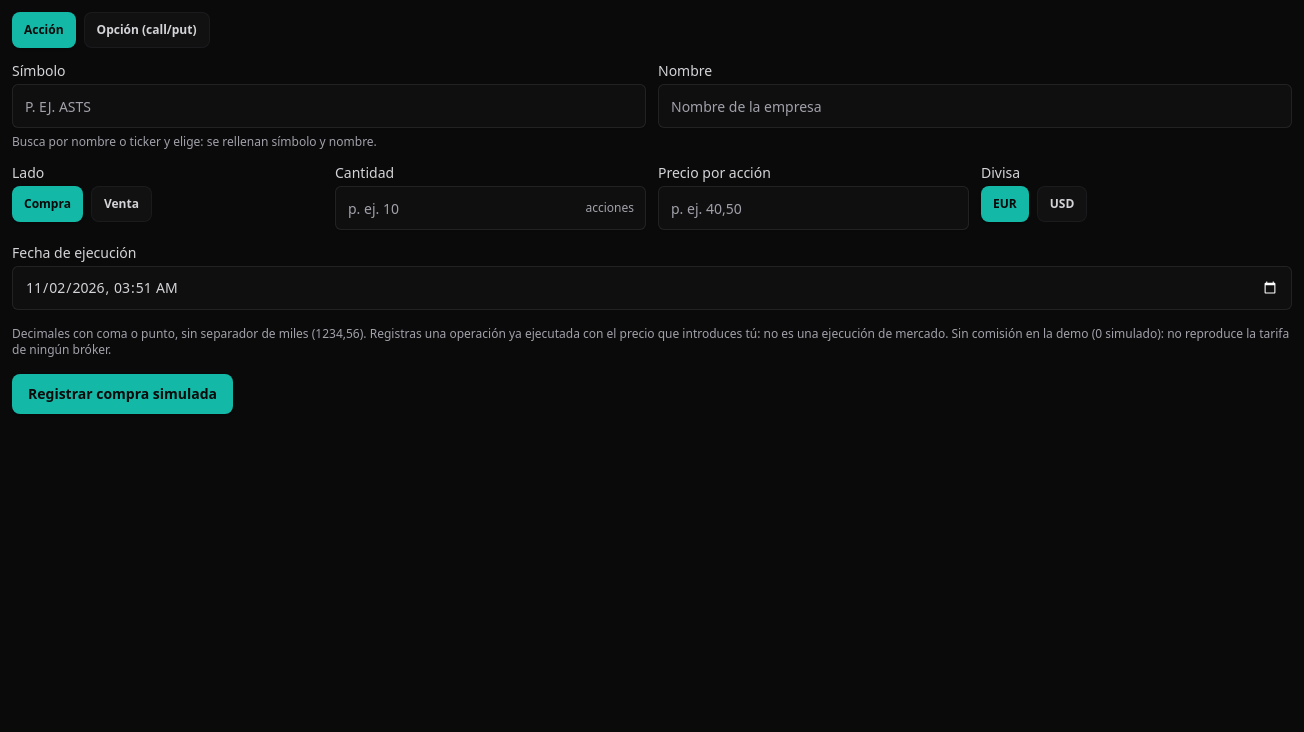
it: OrderTicket (ticket manual de la cuenta demo) › valida opciones en local: ejecución posterior al vencimiento
Click the button "Opción (call/put)" at [147, 30], box [84,12,210,48]
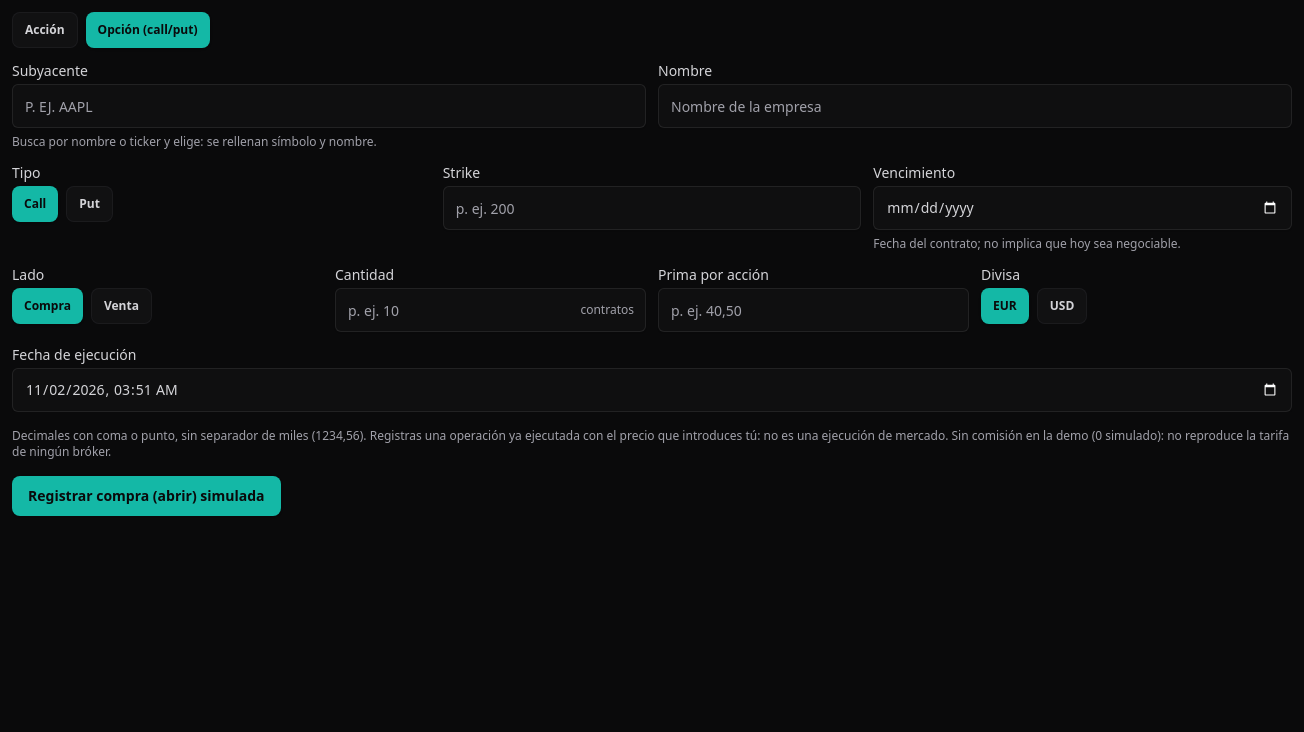
Type "AAPL" into the dropdown labelled "Subyacente" at [329, 106], box [12,84,646,128]
Type "Apple Inc" into the field labelled "Nombre" at [975, 106], box [658,84,1292,128]
Type "2" into the field labelled "Cantidad" at [490, 310], box [335,288,646,332]
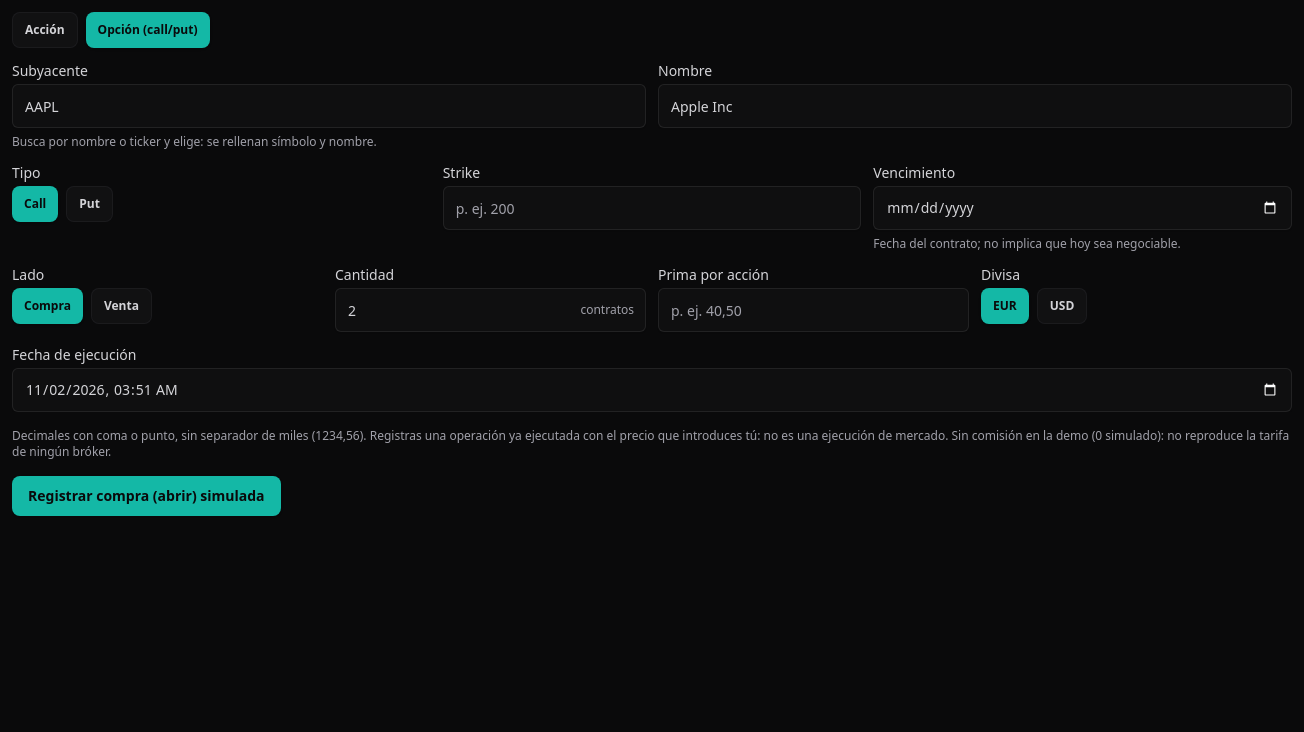
Type "1,5" into the field labelled "Prima por acción" at [814, 310], box [658,288,969,332]
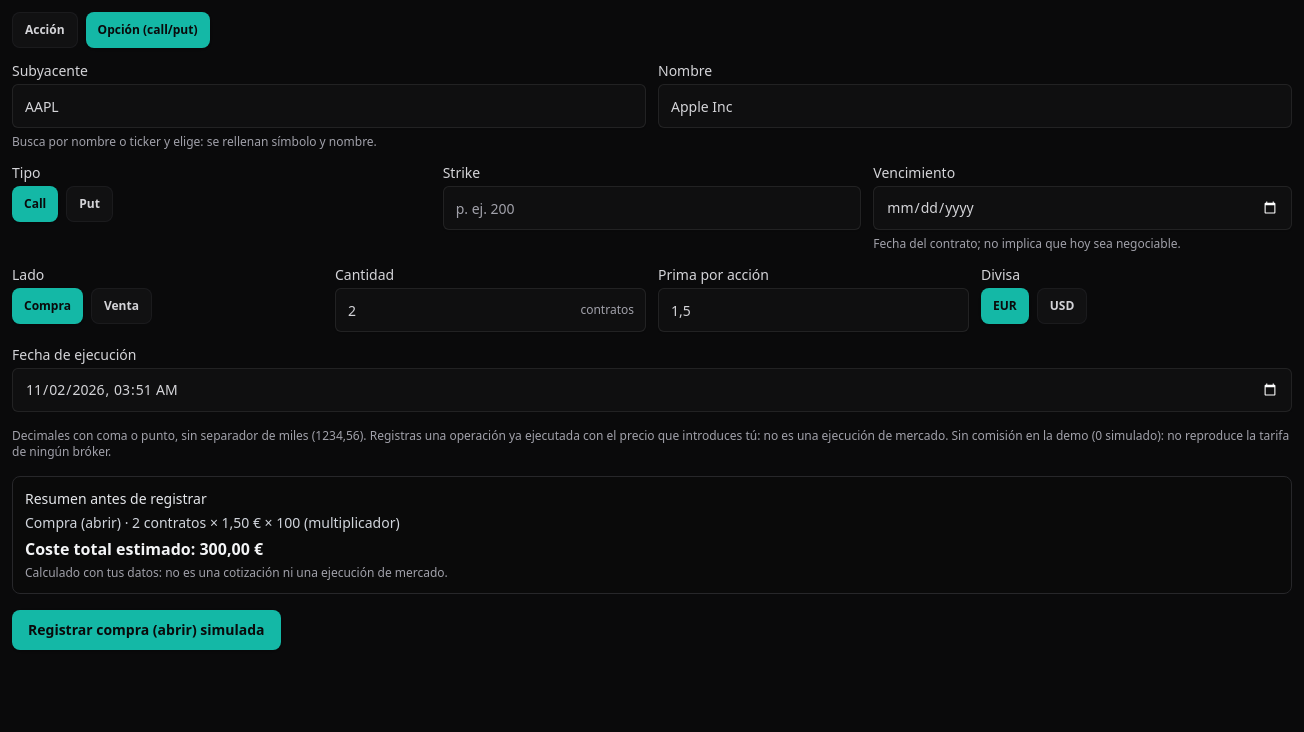
Type "200" into the field labelled "Strike" at [652, 208], box [443,186,861,230]
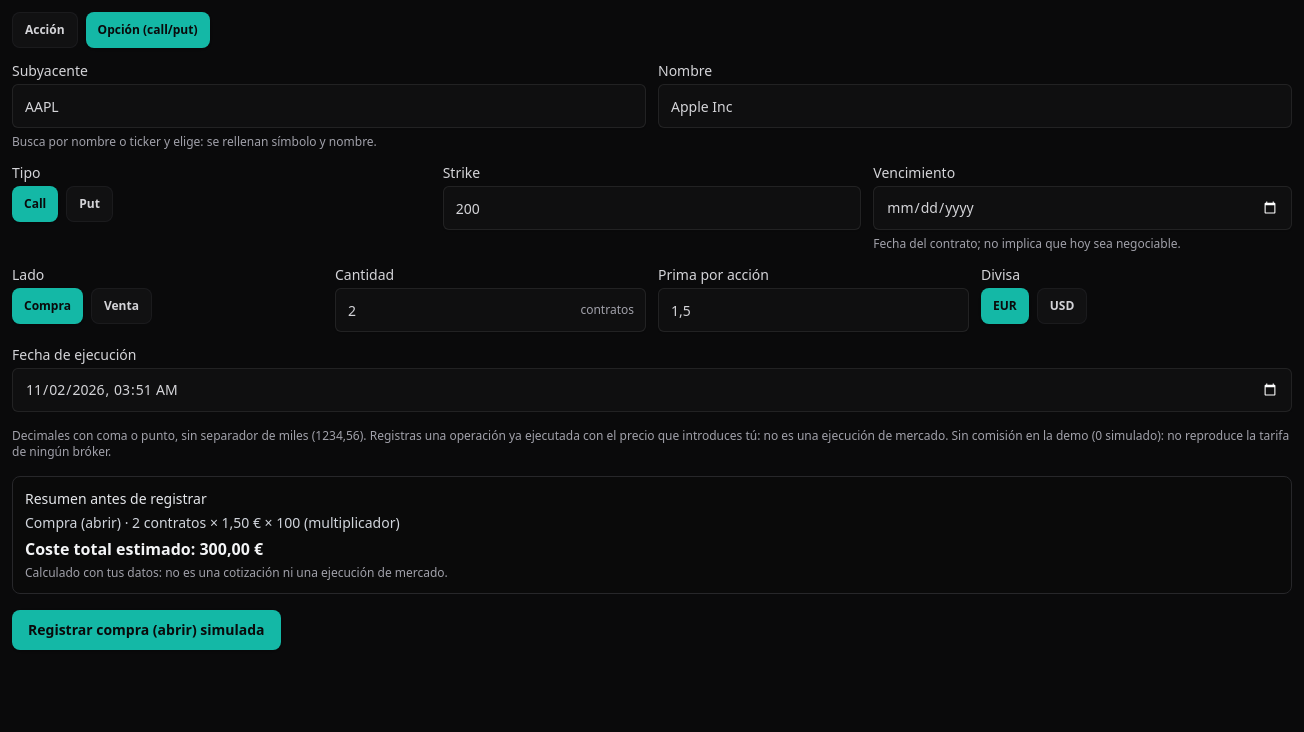
Type "2026-10-23" into the date field labelled "Vencimiento" at [1083, 208], box [873,186,1292,230]
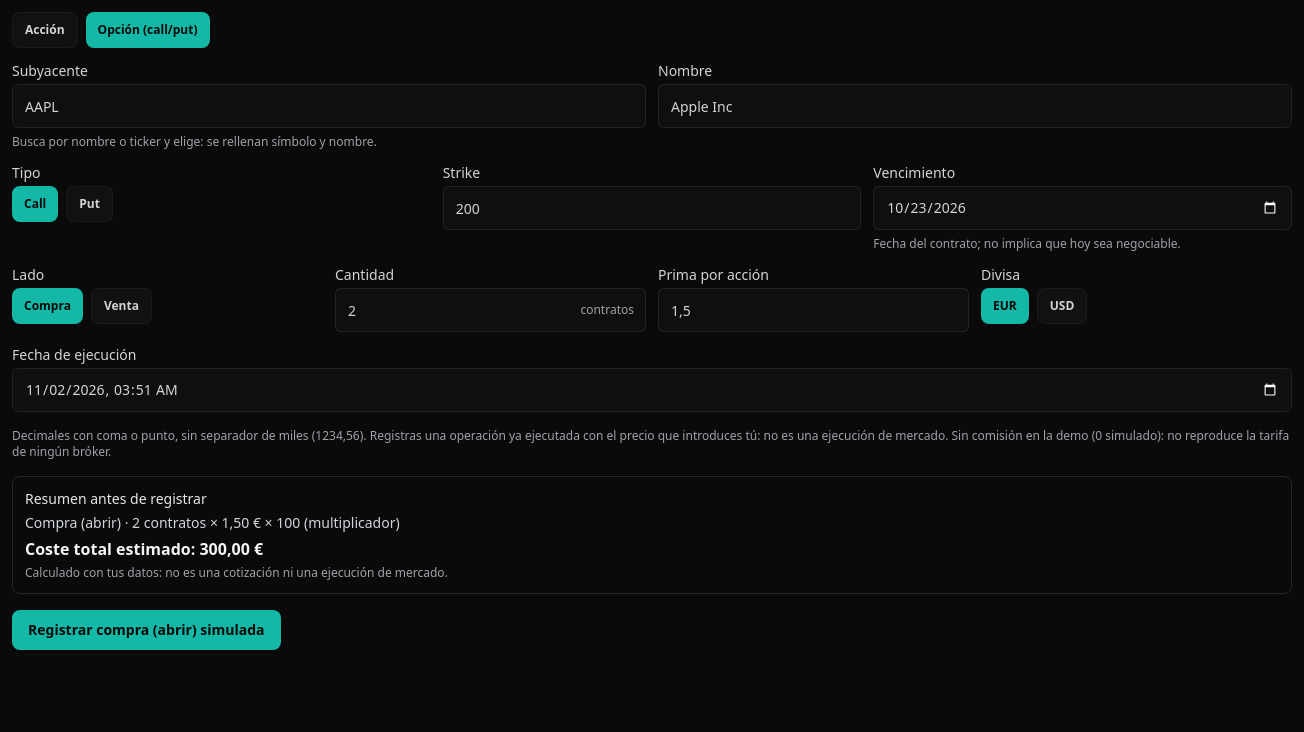
Submit the form named "Registrar operación simulada"
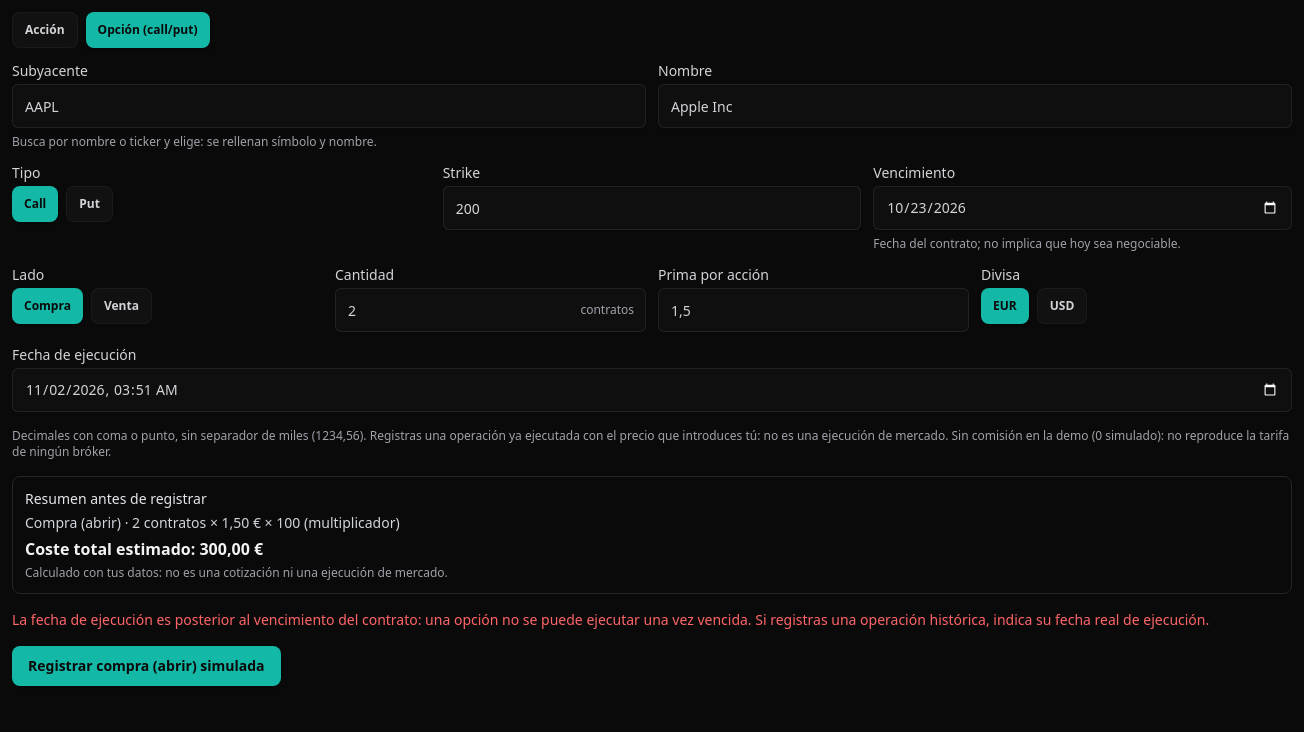
Result: the message shows "posterior al vencimiento del contrato" at [12,610,1209,629]
